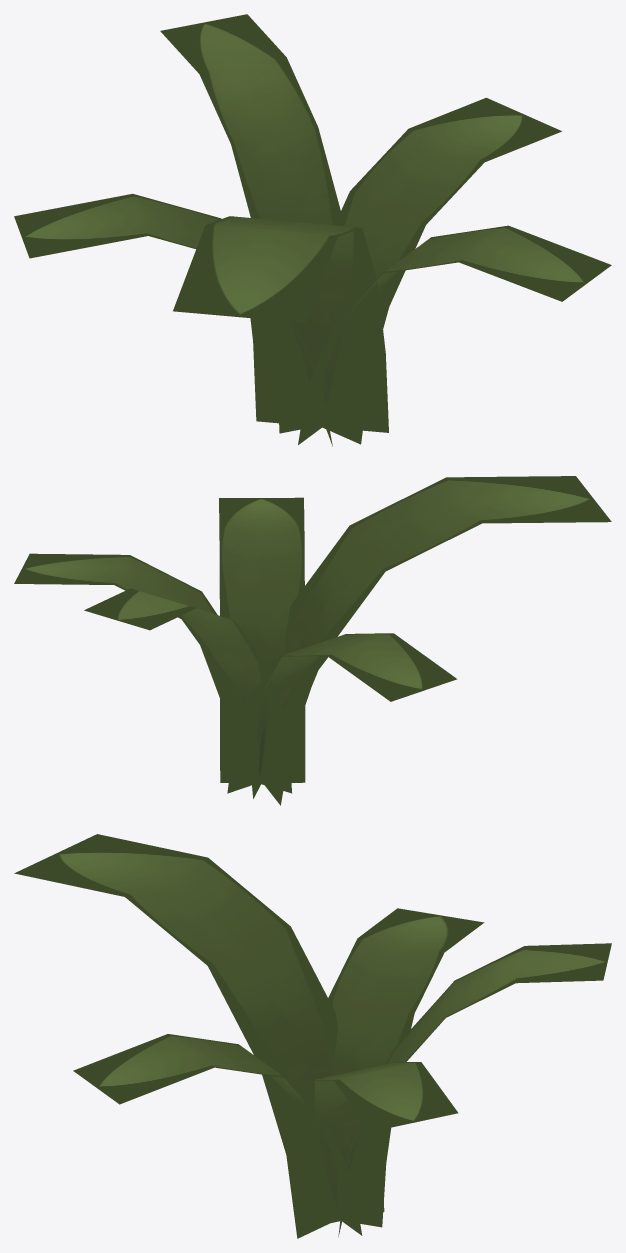
Rendered from SM_Leafy_Foliage_3.fbx.
3 renders of one model, top to bottom at view 1: azimuth 30°, elevation 25°; view 2: azimuth 150°, elevation 25°; view 3: azimuth 270°, elevation 25°, orthographic. The views are drawn at different scales.
Parts seen in each view (by area): view 1: SM_Leafy_Foliage_3_LOD0; view 2: SM_Leafy_Foliage_3_LOD0; view 3: SM_Leafy_Foliage_3_LOD0.
Boxes of the visible parts, x1,y1,x2,y2 form: SM_Leafy_Foliage_3_LOD0: (14, 14, 611, 446); SM_Leafy_Foliage_3_LOD0: (14, 476, 611, 805); SM_Leafy_Foliage_3_LOD0: (14, 834, 611, 1238).
Size of the model in its own units: 35.79 by 37.3 by 19.35.
Materials: 1 (1 with a texture image).
